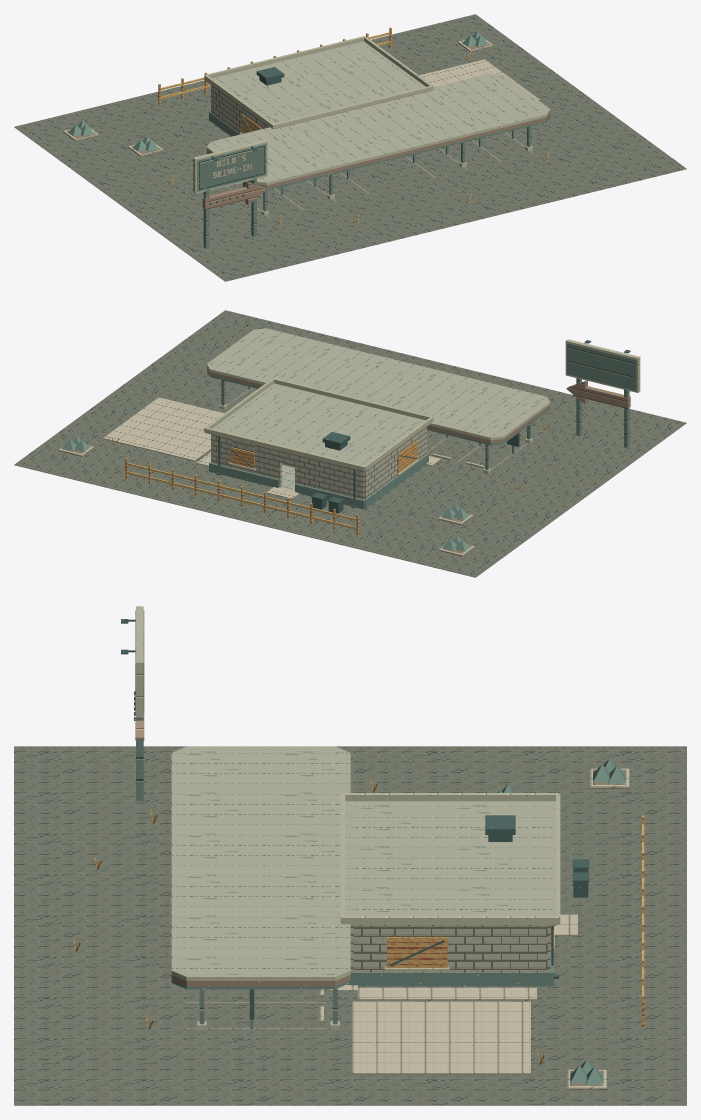
The model's file is carhop-closed.glb.
The picture shows the model from 3 angles, top to bottom: view 1: azimuth 30°, elevation 25°; view 2: azimuth 150°, elevation 25°; view 3: azimuth 270°, elevation 25°; orthographic projection. The views are drawn at different scales.
Parts seen in each view (by area): view 1: lot__ground_asphalt, carhop_canopy__roof_membrane, stand__roof_membrane, stand__wall_enamel, sign_name, walks__ground_paving, carhop_canopy__detail_coral, carhop_canopy__wall_enamel, stand__wall_block, roadside_pylon__detail_teal, carhop_canopy__detail_teal, roadside_pylon__detail_coral (+3 smaller); view 2: lot__ground_asphalt, carhop_canopy__roof_membrane, stand__roof_membrane, stand__wall_block, walks__ground_paving, stand__wall_enamel, roadside_pylon__detail_teal, rear_fence__detail_wood, stand__detail_teal, roadside_pylon__detail_coral, stand__detail_wood, carhop_canopy__detail_coral (+4 smaller); view 3: lot__ground_asphalt, carhop_canopy__roof_membrane, stand__roof_membrane, walks__ground_paving, stand__wall_block, stand__wall_enamel, stand__detail_teal, stand__detail_wood, stand__detail_metal, carhop_canopy__detail_teal, carhop_canopy__detail_coral, carhop_canopy__wall_enamel (+3 smaller).
Part boxes in pixels (<box>): lot__ground_asphalt: <box>14,14,686,281</box>; carhop_canopy__roof_membrane: <box>207,73,549,182</box>; stand__roof_membrane: <box>212,41,425,123</box>; stand__wall_enamel: <box>204,36,433,134</box>; sign_name: <box>199,146,264,189</box>; walks__ground_paving: <box>419,59,541,100</box>; carhop_canopy__detail_coral: <box>207,112,550,188</box>; carhop_canopy__wall_enamel: <box>207,109,550,215</box>; stand__wall_block: <box>211,84,268,133</box>; roadside_pylon__detail_teal: <box>197,144,266,248</box>; carhop_canopy__detail_teal: <box>207,115,550,211</box>; roadside_pylon__detail_coral: <box>202,181,266,209</box>; lot__ground_asphalt: <box>14,310,686,577</box>; carhop_canopy__roof_membrane: <box>207,328,549,437</box>; stand__roof_membrane: <box>207,384,425,471</box>; stand__wall_block: <box>211,427,426,499</box>; walks__ground_paving: <box>102,397,441,499</box>; stand__wall_enamel: <box>204,378,433,475</box>; roadside_pylon__detail_teal: <box>567,343,636,447</box>; rear_fence__detail_wood: <box>125,458,358,535</box>; stand__detail_teal: <box>209,453,428,509</box>; roadside_pylon__detail_coral: <box>566,380,630,408</box>; stand__detail_wood: <box>231,440,417,473</box>; carhop_canopy__detail_coral: <box>207,367,550,443</box>; lot__ground_asphalt: <box>14,746,686,1105</box>; carhop_canopy__roof_membrane: <box>171,746,350,976</box>; stand__roof_membrane: <box>345,801,556,925</box>; walks__ground_paving: <box>327,914,577,1074</box>; stand__wall_block: <box>350,926,550,972</box>; stand__wall_enamel: <box>340,793,560,971</box>; stand__detail_teal: <box>347,952,553,986</box>; stand__detail_wood: <box>387,926,551,967</box>; stand__detail_metal: <box>389,815,558,978</box>; carhop_canopy__detail_teal: <box>171,980,350,1024</box>; carhop_canopy__detail_coral: <box>171,975,350,986</box>; carhop_canopy__wall_enamel: <box>171,970,350,1030</box>.
Size of what is drawn, in the model's own units: 43.46 by 8.3 by 34.45.
Materials: 11 (11 with a texture image).
